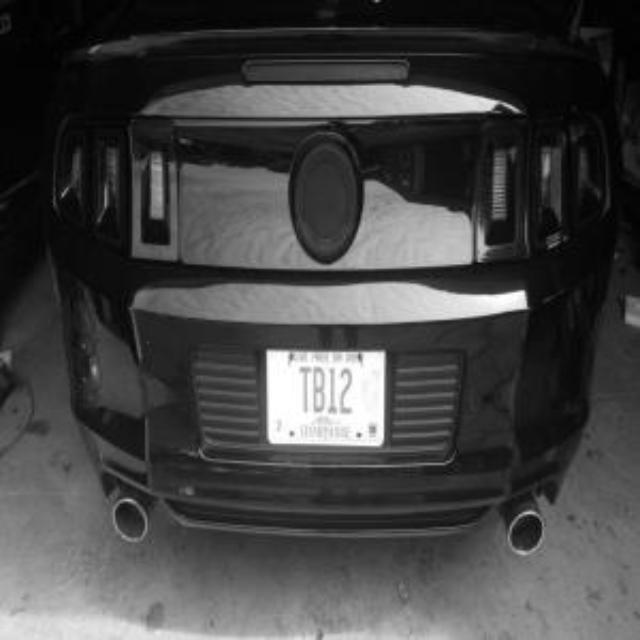License Plate: (266, 350, 385, 447)
